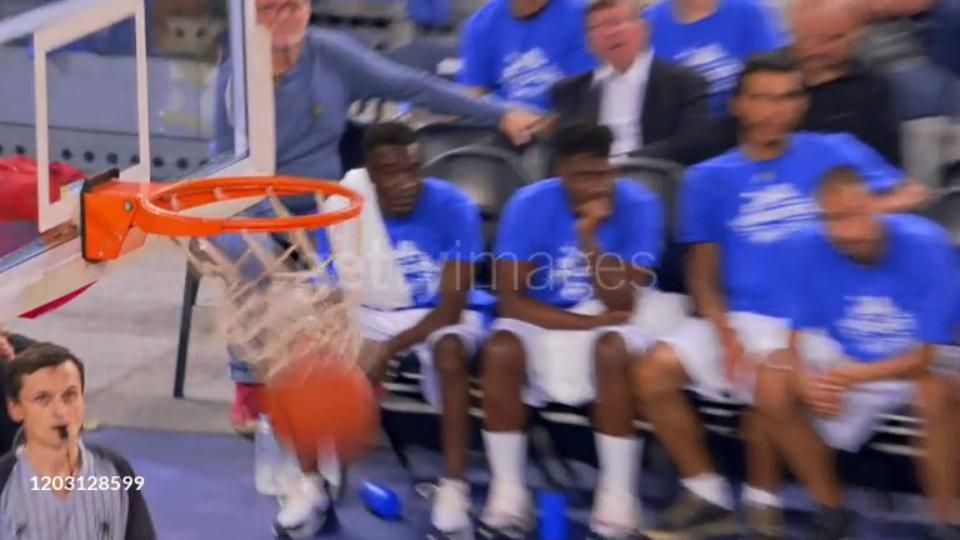hoop: (130, 181, 368, 241)
